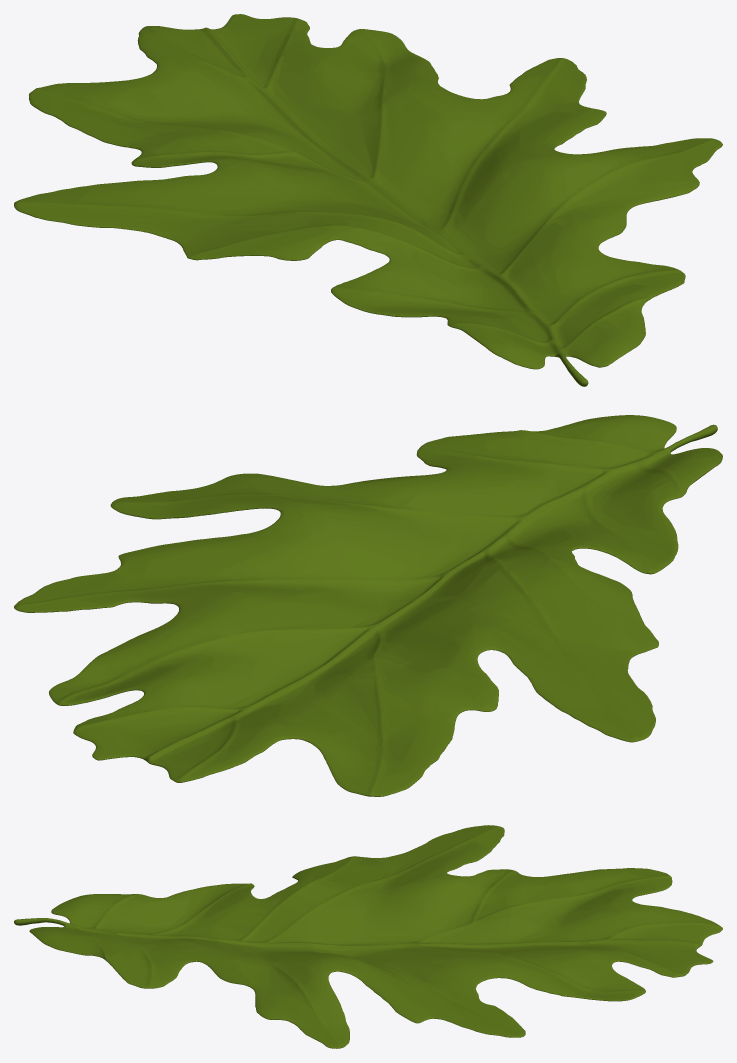
The model's file is quercus.glb.
3 renders of one model, top to bottom at view 1: azimuth 30°, elevation 25°; view 2: azimuth 150°, elevation 25°; view 3: azimuth 270°, elevation 25°, orthographic. The views are drawn at different scales.
Visible parts, largest first — view 1: Mesh; view 2: Mesh; view 3: Mesh.
Part boxes in pixels (bbox=[...]): Mesh: bbox=[14, 14, 722, 386]; Mesh: bbox=[14, 415, 722, 796]; Mesh: bbox=[14, 825, 722, 1048].
Bounding box in the file's own units: 0.0653 × 0.00461 × 0.0885.
